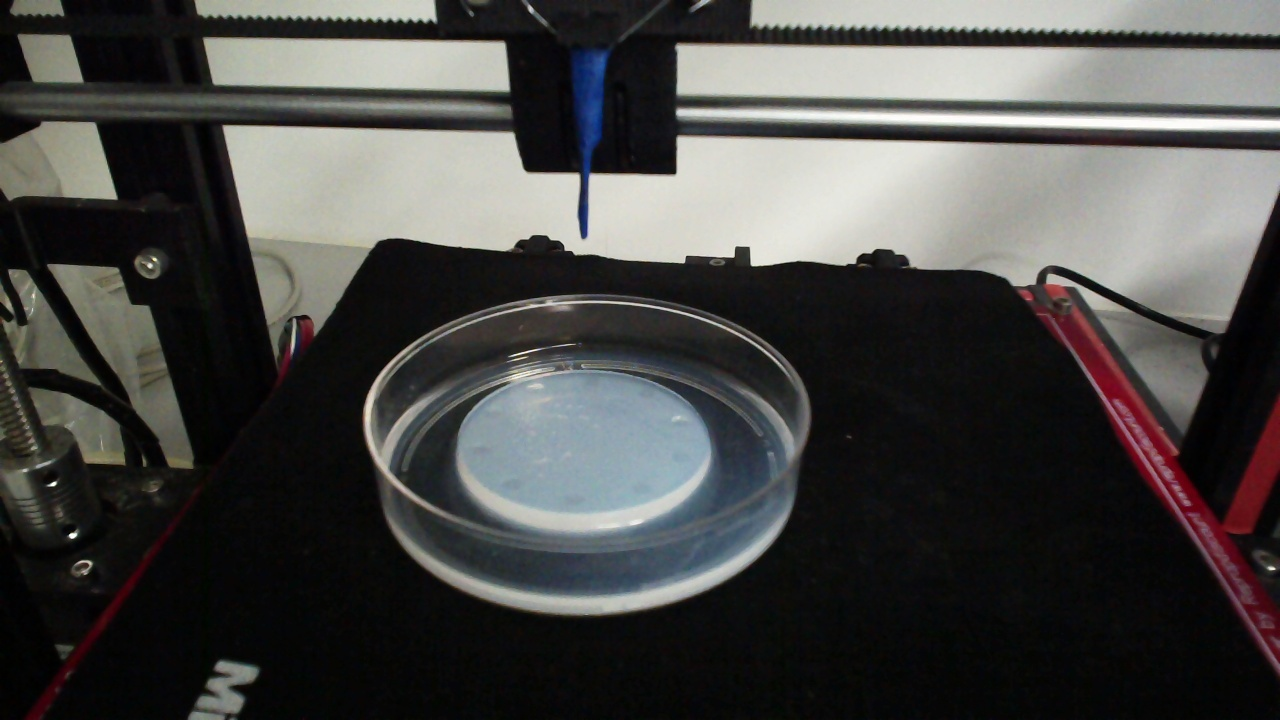groove: (563, 490, 586, 508), (669, 448, 692, 466), (483, 403, 504, 420), (472, 444, 492, 460), (501, 476, 523, 490), (636, 385, 658, 399), (631, 481, 651, 496), (670, 414, 690, 429), (583, 375, 603, 390), (526, 380, 545, 393)
needle: (575, 50, 605, 239)
